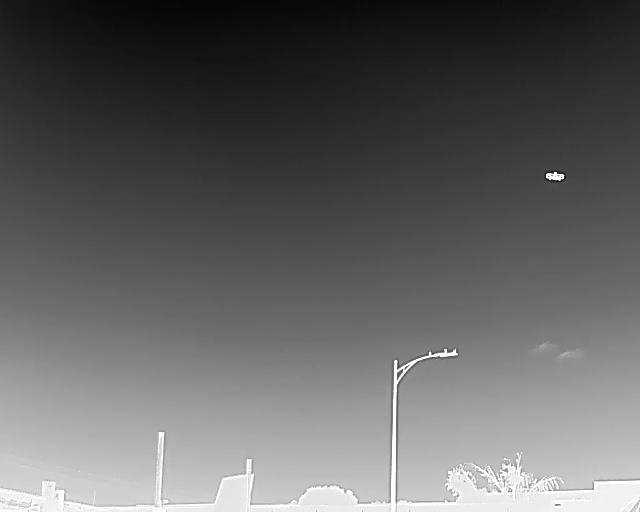fpv-drone: (545, 171, 565, 181)
